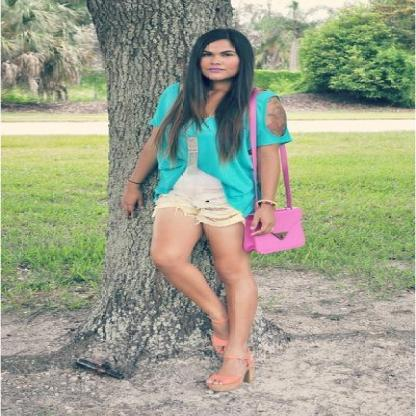bag: (237, 86, 304, 253)
shirt: (149, 84, 286, 216)
shoe: (207, 329, 267, 390)
shorts: (152, 137, 244, 229)
